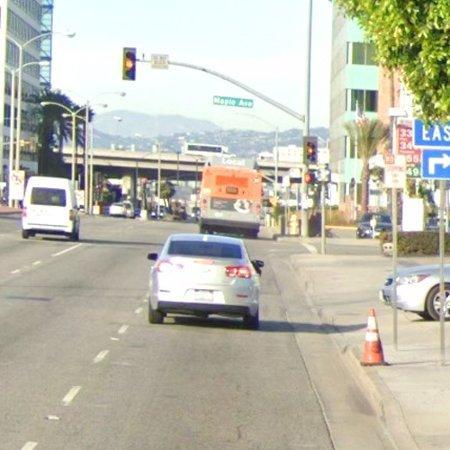traffic lights: (122, 47, 136, 81)
